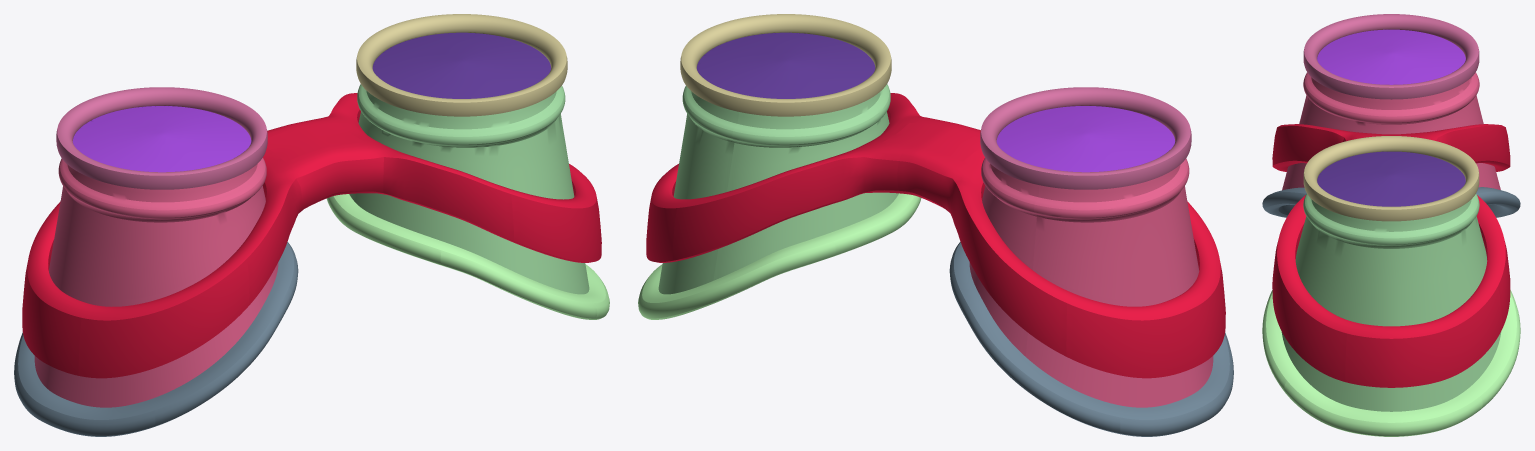
The picture shows the model from 3 angles, left to right: view 1: azimuth 30°, elevation 25°; view 2: azimuth 150°, elevation 25°; view 3: azimuth 270°, elevation 25°; orthographic projection. The views are drawn at different scales.
Visible parts, largest first — view 1: split_parent_3, split_parent_0, split_parent_5, split_parent_1, Object_12.2048, Object_12, Object_8, Object_8.010, split_parent_6; view 2: split_parent_3, split_parent_0, split_parent_5, split_parent_1, Object_12.2048, Object_12, Object_8, Object_8.010, split_parent_6; view 3: split_parent_3, split_parent_5, split_parent_6, split_parent_0, Object_12.2048, Object_12, Object_8, Object_8.010, split_parent_1.
Boxes of the visible parts, x1,y1,x2,y2 form: split_parent_3: (22,93,601,378); split_parent_0: (34,158,278,407); split_parent_5: (349,84,589,294); split_parent_1: (14,242,298,436); Object_12.2048: (372,32,551,98); Object_12: (72,106,251,172); Object_8: (56,87,267,189); Object_8.010: (356,14,567,116); split_parent_6: (326,194,609,319); split_parent_3: (646,93,1225,378); split_parent_0: (969,158,1213,407); split_parent_5: (658,84,898,294); split_parent_1: (949,242,1233,436); Object_12.2048: (696,32,875,98); Object_12: (996,106,1175,172); Object_8: (980,87,1191,189); Object_8.010: (680,14,891,116); split_parent_6: (638,193,921,319); split_parent_3: (1272,124,1510,387); split_parent_5: (1281,194,1501,411); split_parent_6: (1262,290,1520,436); split_parent_0: (1282,72,1500,190); Object_12.2048: (1317,151,1465,206); Object_12: (1317,29,1465,84); Object_8: (1303,14,1479,99); Object_8.010: (1303,136,1479,221); split_parent_1: (1262,187,1520,217).
Size of the model in its own units: 1 by 0.4394 by 0.4796.
